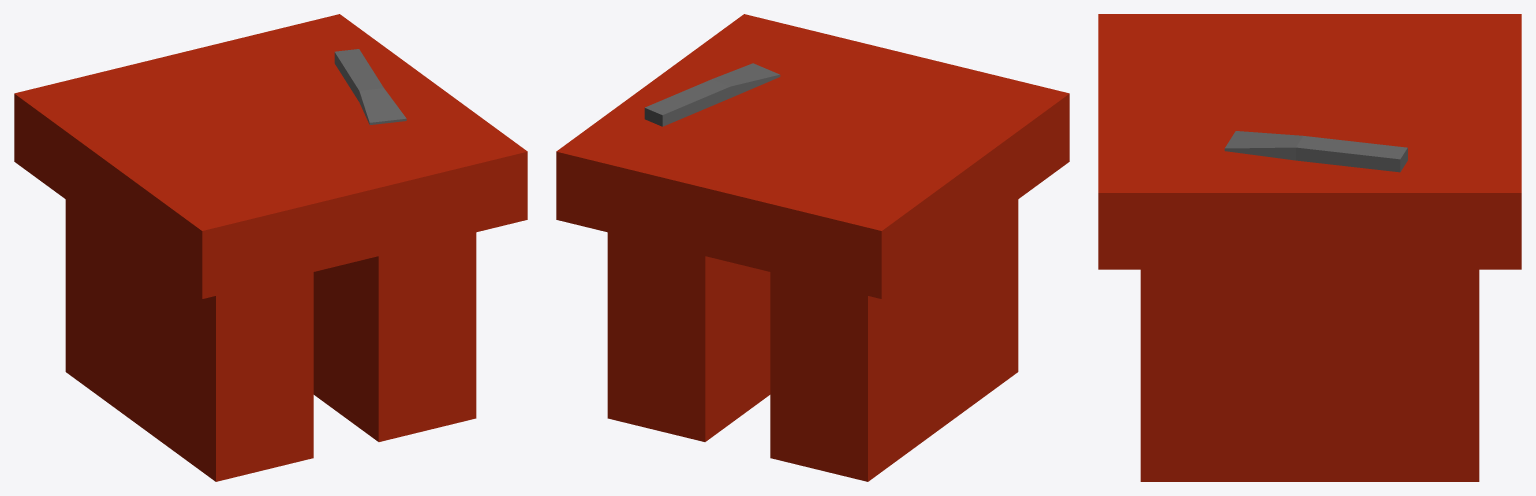
The model's file is Workbench_Chisel.fbx.
3 renders of one model, left to right at view 1: azimuth 30°, elevation 25°; view 2: azimuth 150°, elevation 25°; view 3: azimuth 270°, elevation 25°, orthographic. The views are drawn at different scales.
Visible parts, largest first — view 1: Box001, Box002; view 2: Box001, Box002; view 3: Box001, Box002.
Boxes of the visible parts, x1,y1,x2,y2 form: Box001: [14, 14, 527, 481]; Box002: [334, 49, 406, 124]; Box001: [556, 14, 1069, 481]; Box002: [644, 63, 780, 126]; Box001: [1098, 14, 1521, 481]; Box002: [1224, 131, 1407, 172].
Size of the model in its own units: 39.37 by 32.99 by 39.37.
